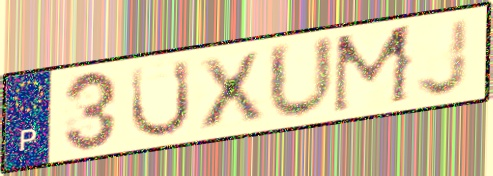3: (61, 68, 120, 154)
J: (414, 15, 472, 99)
M: (328, 21, 417, 118)
U: (265, 32, 338, 123), (127, 56, 194, 141)
X: (195, 48, 268, 133)
